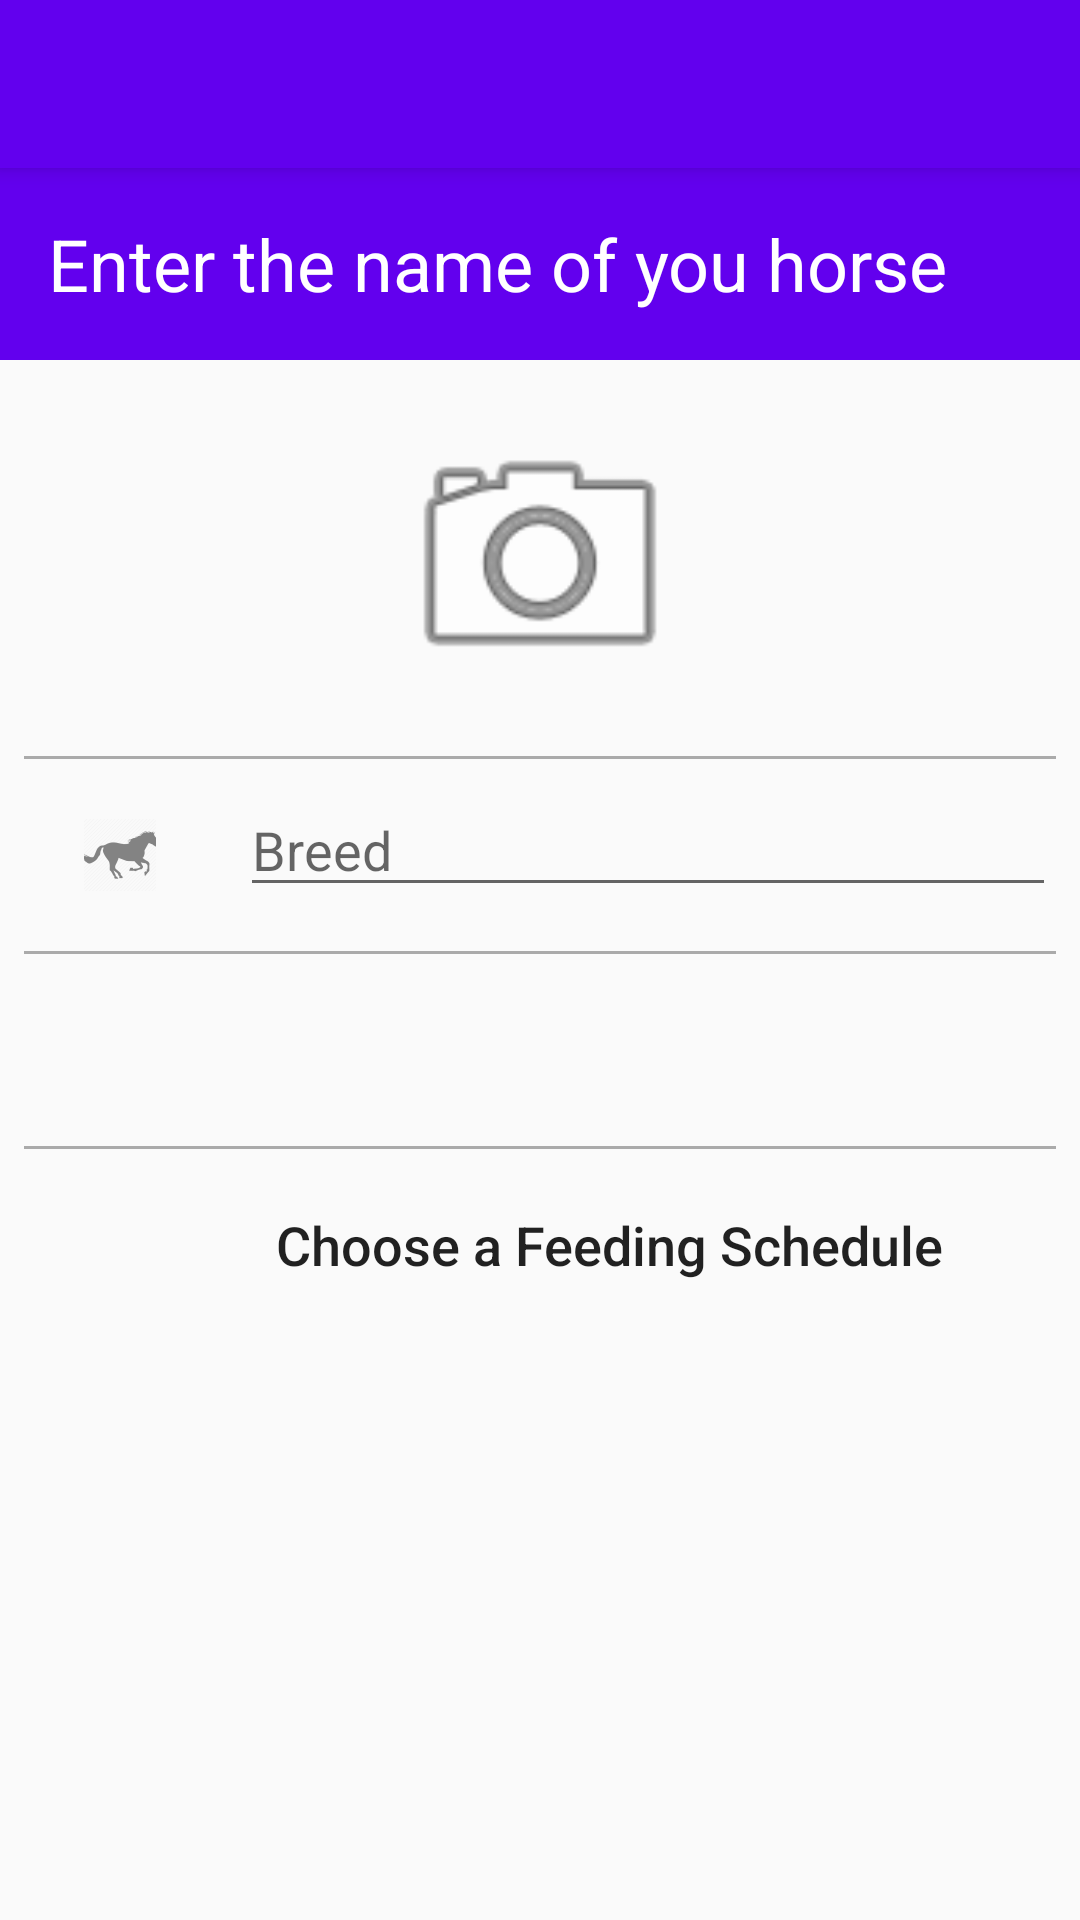

Icon click points for this 1080 × 1920 phone screenshot, format point (x, y):
camera: point (540, 553)
horse: point (120, 855)
